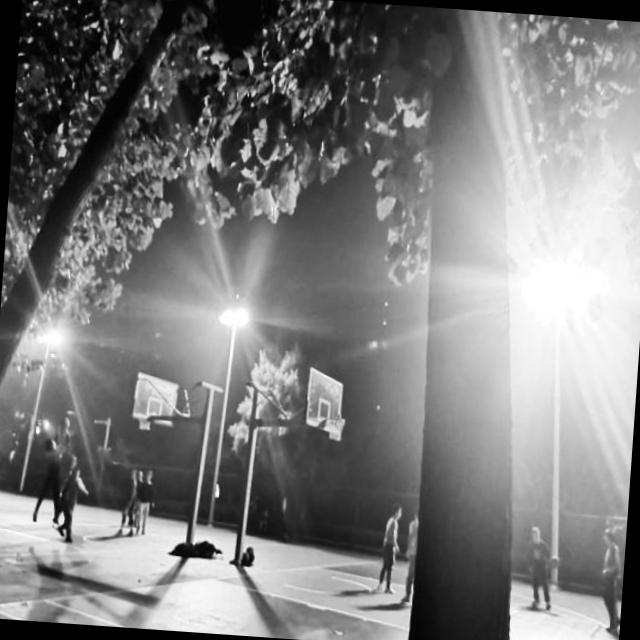Light: (500, 264, 599, 588), (196, 292, 254, 530), (15, 324, 70, 496)
Tree: (379, 6, 560, 640), (0, 0, 191, 557)
